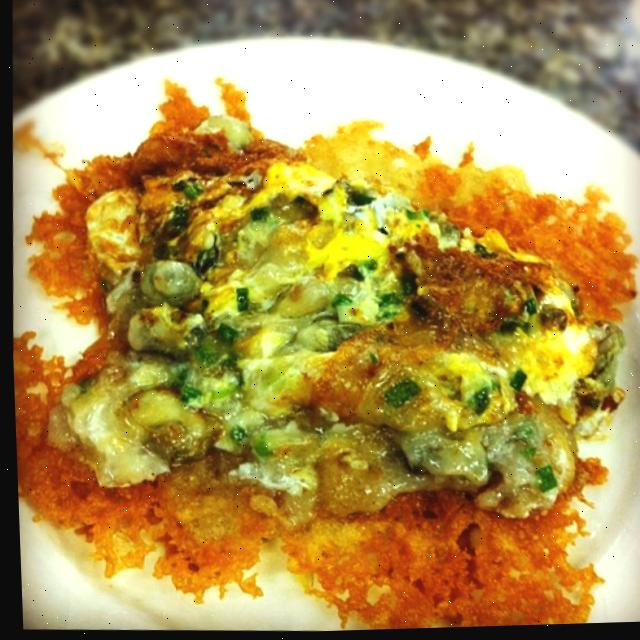炸货点心: (9, 56, 633, 640)
蛋糕甜品: (9, 56, 633, 640)
